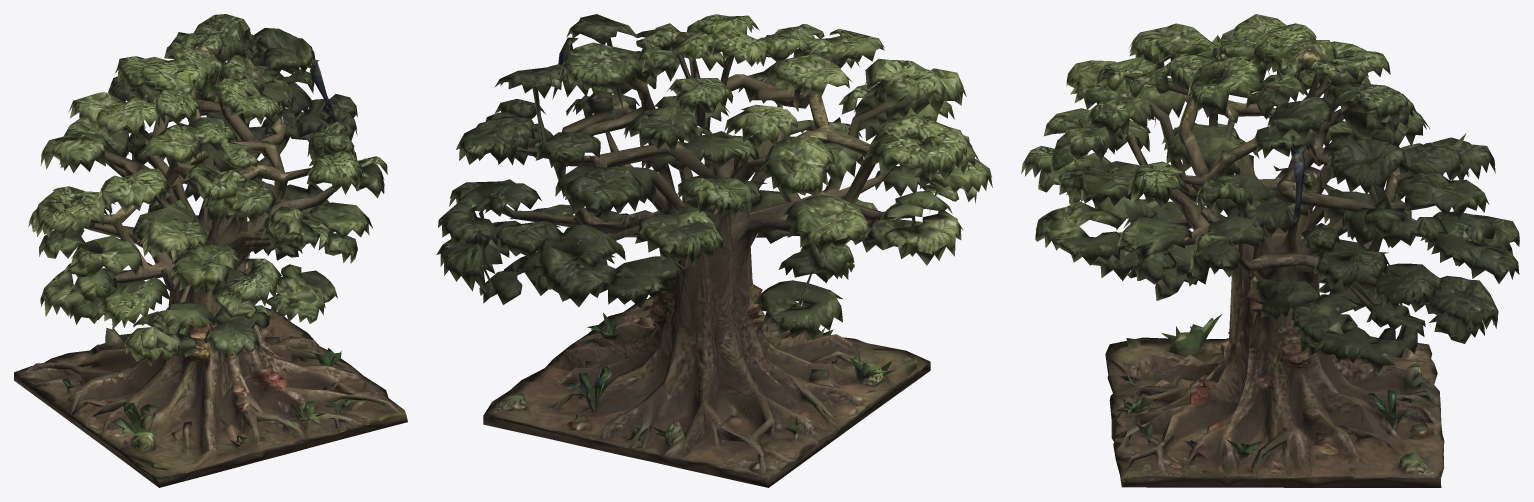
Rendered from f01_samauma.glb.
The picture shows the model from 3 angles, left to right: view 1: azimuth 30°, elevation 25°; view 2: azimuth 150°, elevation 25°; view 3: azimuth 270°, elevation 25°; orthographic projection. The views are drawn at different scales.
Parts seen in each view (by area): view 1: f01_samauma; view 2: f01_samauma; view 3: f01_samauma.
Boxes of the visible parts, x1=… form: f01_samauma: x1=14, y1=14, x2=407, y2=487; f01_samauma: x1=436, y1=14, x2=992, y2=487; f01_samauma: x1=1021, y1=14, x2=1519, y2=487.
Bounding box in the file's own units: 1.43 × 1.23 × 1.48.
Materials: 1 (1 with a texture image).
